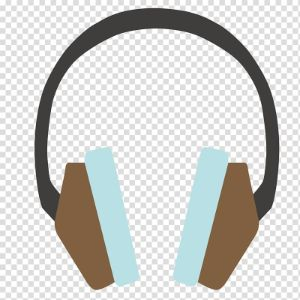headset: (32, 6, 283, 292)
